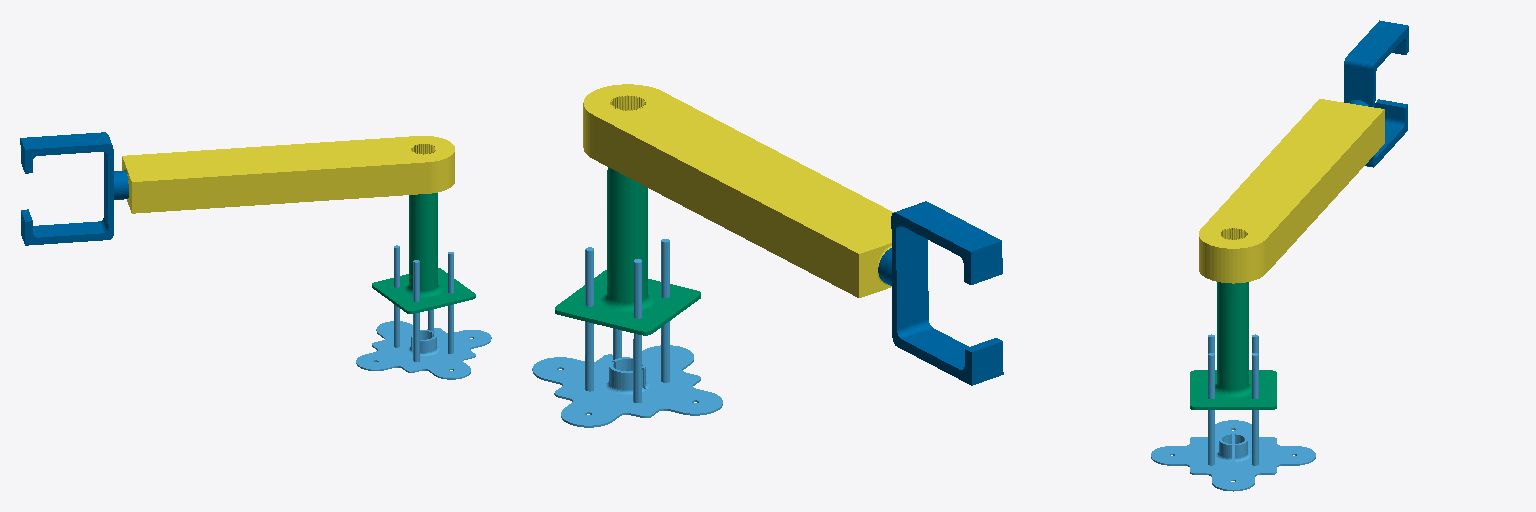
URDF robot description (mont_simplificada):
<?xml version='1.0' encoding='utf-8'?>
<robot name="mont_simplificada">
    <link name="world">
        <visual>
            <geometry>
                <box size="0.0 0.0 0.0"/>
            </geometry>
            <origin rpy="0 1.57 1.57" xyz="0 0 0"/>
        </visual>
    </link>

    <link name="BASE_ROBO_V2">
        <inertial>
            <origin xyz="-0.04470635840469374 0.13780000001224185 2.5851716600744368e-15" rpy="0.0 0.0 0.0" />
            <mass value="1.8503505418501183" />
            <inertia ixx="0.009068241052052672" iyy="0.012057534102957429" izz="0.012062533232161053" ixy="-1.0108657530038691e-12" iyz="3.3779131835415255e-15" ixz="9.056318243304316e-16" />
        </inertial>
        <visual name="BASE_ROBO_V2_visual">
            <origin xyz="0.0 0.0 0.0" rpy="0.0 0.0 0.0" />
            <geometry>
                <mesh filename="package://my_robot_urdf/urdf/meshes/BASE_ROBO_V2.stl" scale="0.001 0.001 0.001" />
            </geometry>
        </visual>
        <collision name="BASE_ROBO_V2_collision">
            <origin xyz="0.0 0.0 0.0" rpy="0.0 0.0 0.0" />
            <geometry>
                <mesh filename="package://my_robot_urdf/urdf/meshes/BASE_ROBO_V2.stl" scale="0.001 0.001 0.001" />
            </geometry>
        </collision>
        <origin xyz="0 0 0" rpy="0 0 0" />
    </link>
    <link name="BASE_2">
        <inertial>
            <origin xyz="0.17341553982390867 1.6488500537148453e-09 -1.9513015778183097e-08" rpy="0.0 -0.0 0.0" />
            <mass value="2.670122955781989" />
            <inertia ixx="0.004887728410645593" iyy="0.02281049238477796" izz="0.02281670942151974" ixy="-1.0750279415576089e-10" iyz="-5.6888720496367015e-08" ixz="6.9641941263277884e-09" />
        </inertial>
        <visual name="BASE_2_visual">
            <origin xyz="-0.30554771151639604 0.13779456724760394 0.0012237700000000355" rpy="3.1327117471550867 -5.959855065956516e-17 -3.141592653589793" />
            <geometry>
                <mesh filename="package://my_robot_urdf/urdf/meshes/BASE_2.stl" scale="0.001 0.001 0.001" />
            </geometry>
        </visual>
        <collision name="BASE_2_collision">
            <origin xyz="-0.30554771151639604 0.13779456724760394 0.0012237700000000355" rpy="3.1327117471550867 -5.959855065956516e-17 -3.141592653589793" />
            <geometry>
                <mesh filename="package://my_robot_urdf/urdf/meshes/BASE_2.stl" scale="0.001 0.001 0.001" />
            </geometry>
        </collision>
    </link>
    <link name="ELO2">
        <inertial>
            <origin xyz="0.030012456269309738 -0.08752014733070843 -0.2337539266868986" rpy="1.3864474919117587e-64 -0.0 0.0" />
            <mass value="6.43787327141781" />
            <inertia ixx="0.27519677160093164" iyy="0.23758679595155274" izz="0.04617345436963305" ixy="9.417459931909677e-06" iyz="-0.083351955153321" ixz="2.5152703164388335e-05" />
        </inertial>
        <visual name="ELO2_visual">
            <origin xyz="-0.998547711516273 0.13570282508191328 -0.023949609118288476" rpy="1.5707963267949059 1.56191542036019 1.570796326794906" />
            <geometry>
                <mesh filename="package://my_robot_urdf/urdf/meshes/ELO2.stl" scale="0.001 0.001 0.001" />
            </geometry>
        </visual>
        <collision name="ELO2_collision">
            <origin xyz="-0.998547711516273 0.13570282508191328 -0.023949609118288476" rpy="1.5707963267949059 1.56191542036019 1.570796326794906" />
            <geometry>
                <mesh filename="package://my_robot_urdf/urdf/meshes/ELO2.stl" scale="0.001 0.001 0.001" />
            </geometry>
        </collision>
    </link>
    <link name="ELO3">
        <inertial>
            <origin xyz="-0.0008639837898317283 1.9895196601282807e-15 0.09728288912263892" rpy="0.0 -5.294179852042285e-64 0.0" />
            <mass value="3.8843313805790545" />
            <inertia ixx="0.039099775529421565" iyy="0.017127613906986472" izz="0.023886167133201904" ixy="0.00024317972848089464" iyz="2.1597131965305237e-06" ixz="0.00013512484281840917" />
        </inertial>
        <visual name="ELO3_visual">
            <origin xyz="-0.35025844732015915 0.9965477115165328 -0.06825145262830638" rpy="0.011065653792468863 -1.1947799207235021 3.141592653589793" />
            <geometry>
                <mesh filename="package://my_robot_urdf/urdf/meshes/ELO3.stl" scale="0.001 0.001 0.001" />
            </geometry>
        </visual>
        <collision name="ELO3_collision">
            <origin xyz="-0.35025844732015915 0.9965477115165328 -0.06825145262830638" rpy="0.011065653792468863 -1.1947799207235021 3.141592653589793" />
            <geometry>
                <mesh filename="package://my_robot_urdf/urdf/meshes/ELO3.stl" scale="0.001 0.001 0.001" />
            </geometry>
        </collision>
    </link>
    <joint name="BASE_2_Revolute-1" type="continuous">
        <origin xyz="0.32699999999999996 0.0 0.0" rpy="2.465190328815662e-32 1.232595164407831e-32 1.1248198369963932e-32" />
        <parent link="BASE_2" />
        <child link="ELO2" />
        <axis xyz="1.0 0.0 0.0" />
        <dynamics damping="0.1" friction="0.01" />
    </joint>
    <joint name="ELO2_Revolute-2" type="continuous">
        <origin xyz="0.03 -0.1998649 -0.53381085" rpy="-3.141592653589793 -0.3671354996366823 -1.5707963267948966" />
        <parent link="ELO2" />
        <child link="ELO3" />
        <axis xyz="-0.008880861552936548 1.1543376974195777e-32 0.9999602592093735" />
    </joint>
    <joint name="BASE_ROBO_V2_Slider-3" type="prismatic">
        <origin xyz="-0.032278 0.13780000136417764 2.8321857201141223e-09" rpy="-0.008880906434706804 -0.0 3.141592653589793" />
        <parent link="BASE_ROBO_V2" />
        <child link="BASE_2" />
        <axis xyz="1.0 0.0 0.0" />
        <limit lower="0.00" upper="0.08" effort="100" velocity="10" />
    </joint>
    <joint name="joint_0" type="fixed">
        <parent link="world"/>
        <child link="BASE_ROBO_V2"/>
        <origin xyz="0 -0.14 0.005" rpy="0 1.57 0"/>
    </joint>

</robot>

--- Facts derived from the render (not from the file) ---
The picture shows the robot from 3 angles, left to right: view 1: azimuth 30°, elevation 25°; view 2: azimuth 150°, elevation 25°; view 3: azimuth 270°, elevation 25°; orthographic projection.
Robot: mont_simplificada — 5 links, 4 joints (2 continuous, 1 prismatic, 1 fixed); root link world; default pose: all joints at 0.
Visible links, largest first — view 1: ELO2, BASE_ROBO_V2, ELO3, BASE_2; view 2: ELO2, BASE_ROBO_V2, ELO3, BASE_2; view 3: ELO2, BASE_ROBO_V2, BASE_2, ELO3.
Boxes of the visible links, bbox=[...] form: ELO2: bbox=[122, 136, 454, 213]; BASE_ROBO_V2: bbox=[356, 245, 491, 379]; ELO3: bbox=[20, 132, 128, 245]; BASE_2: bbox=[372, 193, 475, 313]; ELO2: bbox=[583, 84, 893, 297]; BASE_ROBO_V2: bbox=[532, 239, 722, 427]; ELO3: bbox=[878, 201, 1003, 385]; BASE_2: bbox=[555, 167, 700, 335]; ELO2: bbox=[1199, 99, 1384, 283]; BASE_ROBO_V2: bbox=[1151, 334, 1315, 491]; BASE_2: bbox=[1190, 282, 1276, 409]; ELO3: bbox=[1344, 20, 1408, 167].
Size in the robot's own frame: 0.8717 by 0.4456 by 0.4941 metres.
4 mesh visuals loaded from 4 distinct referenced files (4 binary STL).